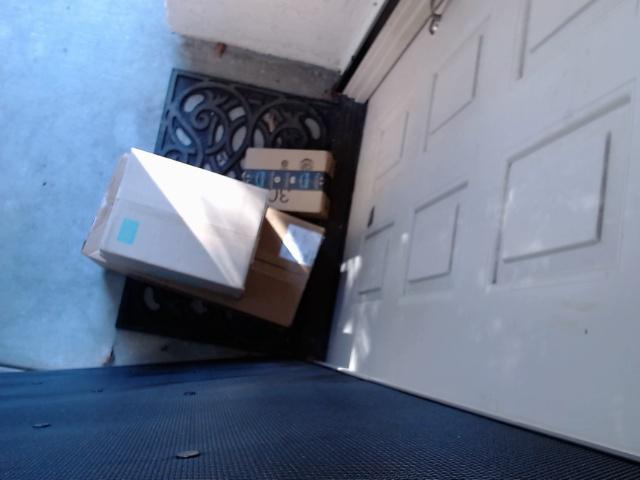box: (64, 150, 324, 337), (112, 159, 271, 298), (228, 121, 339, 219)
